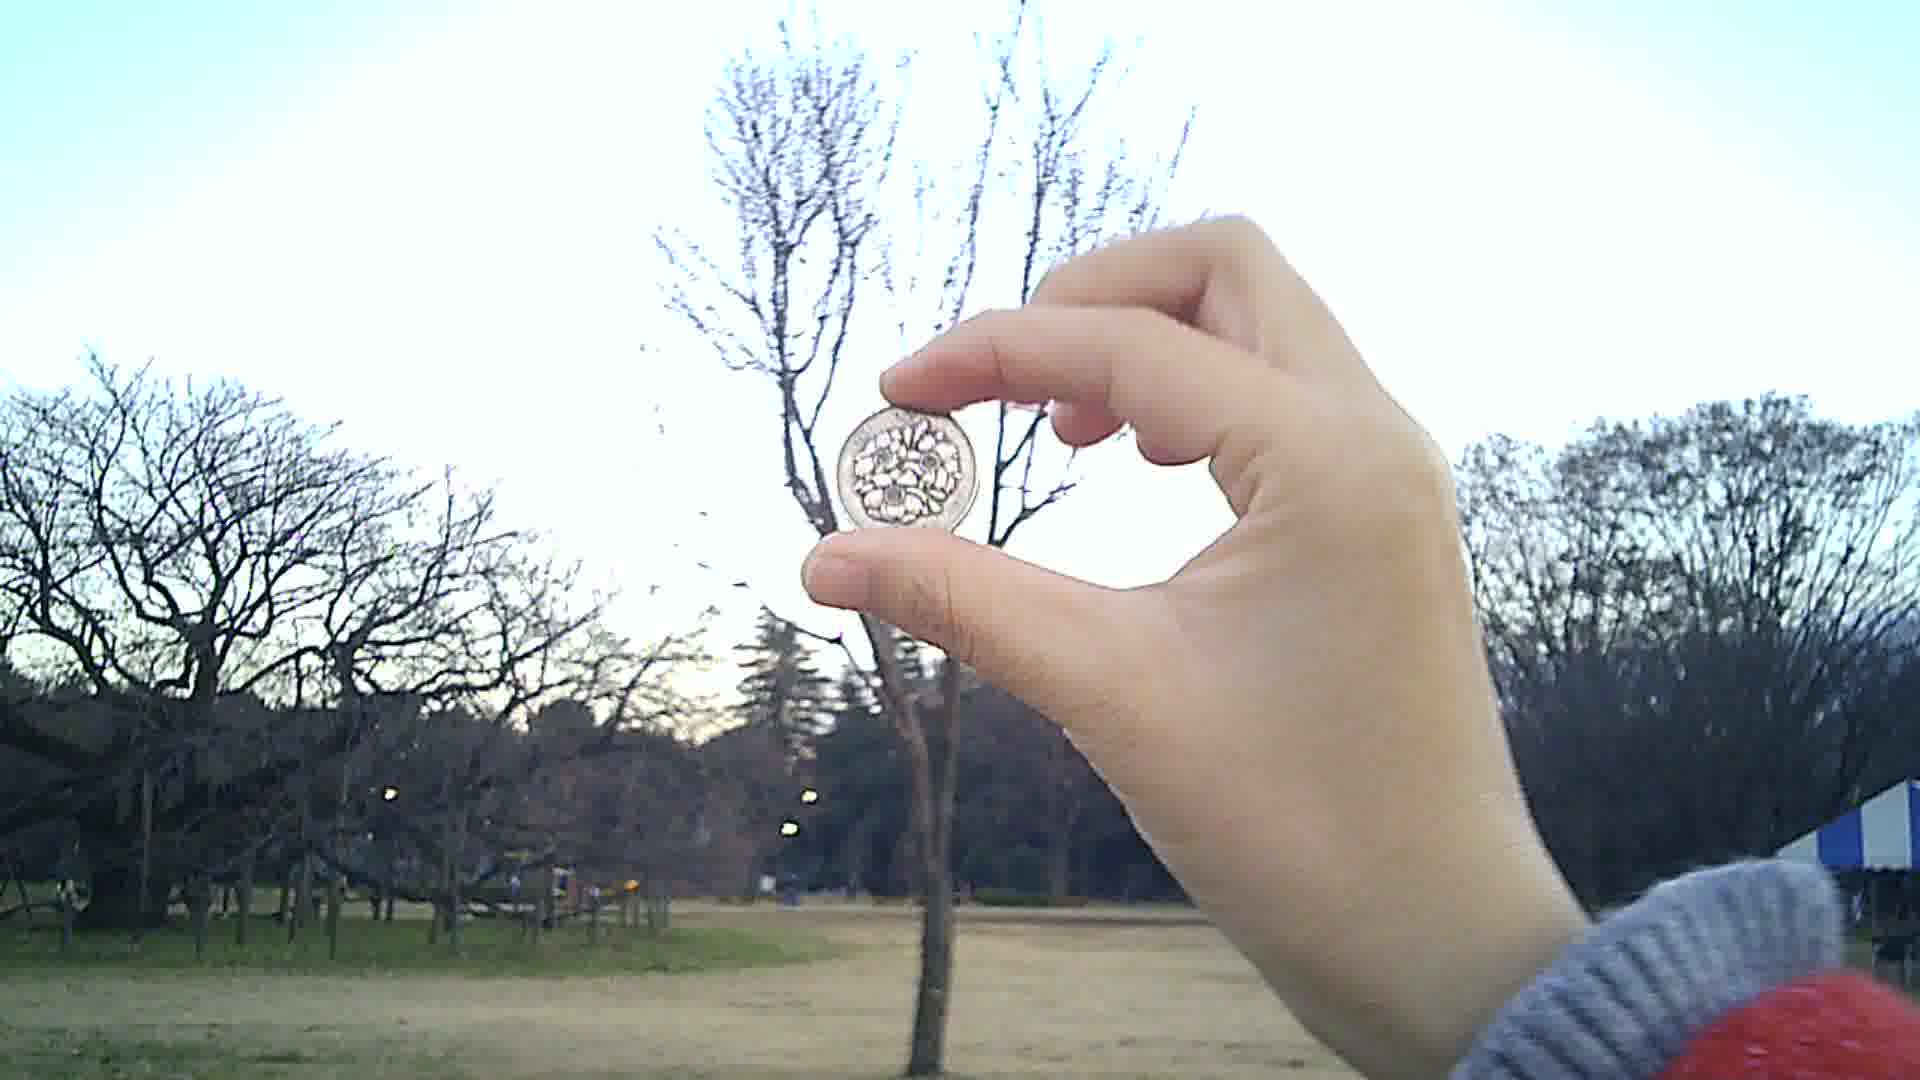100 Yen: (831, 404, 978, 545)
